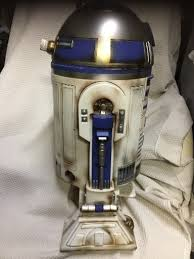r2d2: (40, 4, 155, 253)
